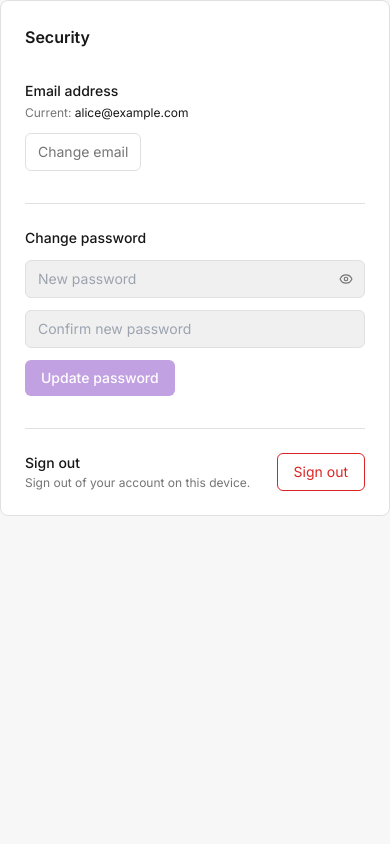
it: SecuritySection — Email change › clicking Change email reveals the email input
Step 1. Click the button "Change email" → [83, 152], box 25,133 -> 141,171
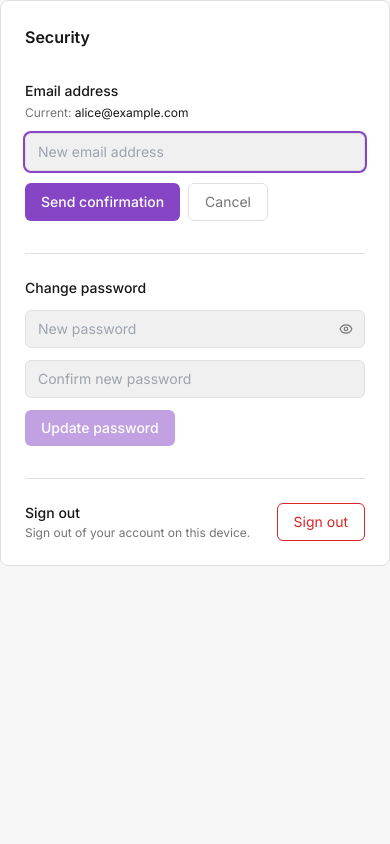
Now the field with placeholder "New email address" is shown, box 25,133 -> 365,171
